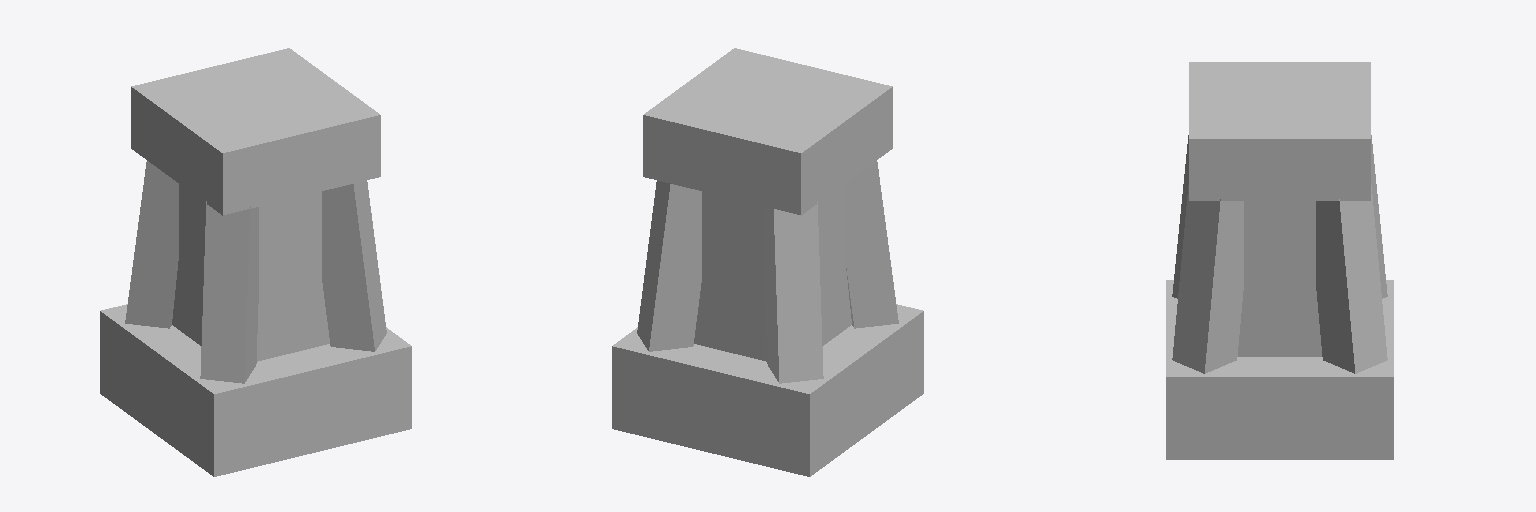
Rendered from pedestal_block_air.obj.
3 views of the same model, side by side, from view 1: azimuth 30°, elevation 25°; view 2: azimuth 150°, elevation 25°; view 3: azimuth 270°, elevation 25° (orthographic).
Parts seen in each view (by area): view 1: Top; view 2: Top; view 3: Top.
Part boxes in pixels (x1,y1,x2,y2): Top: (100,48,411,476); Top: (612,48,923,476); Top: (1166,62,1393,459).
Bounding box in the file's own units: 0.625 × 0.9375 × 0.625.